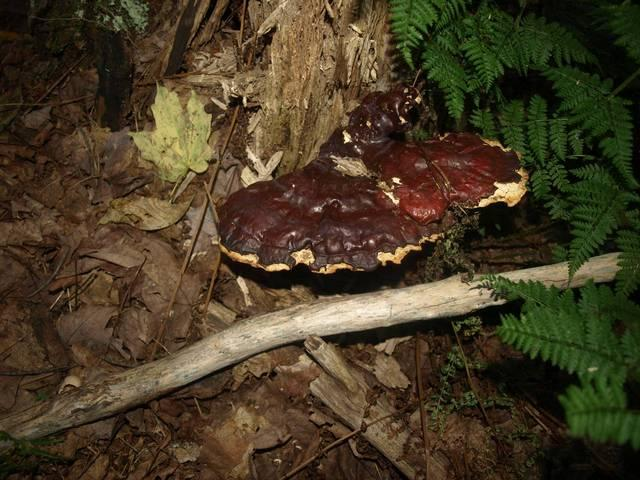Non-edible Mushroom: (213, 82, 530, 279)
